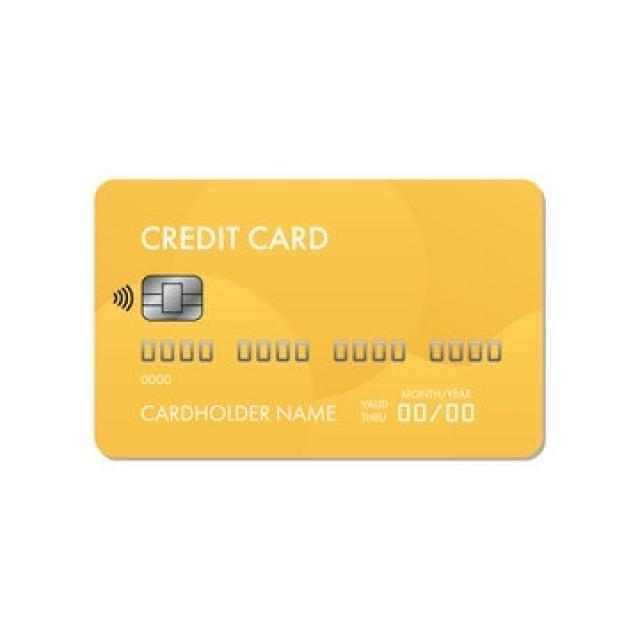payment_card: (92, 177, 546, 461)
